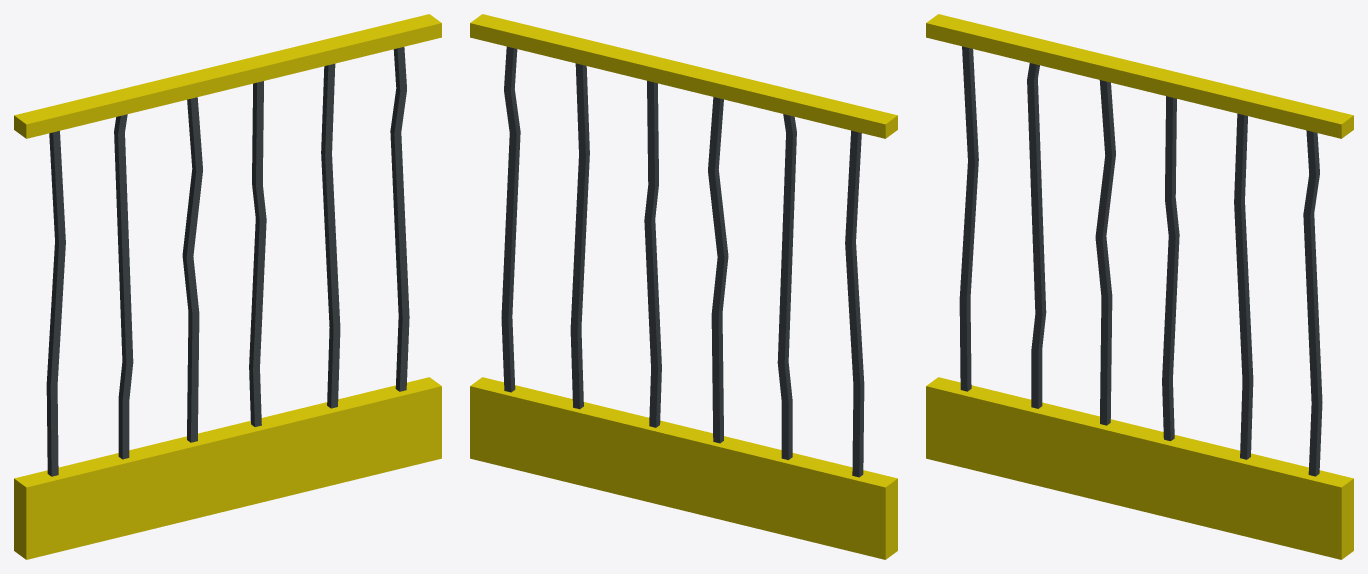
Rendered from BarWall_300x300.fbx.
The picture shows the model from 3 angles, left to right: view 1: azimuth 30°, elevation 25°; view 2: azimuth 150°, elevation 25°; view 3: azimuth 330°, elevation 25°; orthographic projection.
Parts seen in each view (by area): view 1: SeethroughWall_300x300; view 2: SeethroughWall_300x300; view 3: SeethroughWall_300x300.
Part boxes in pixels (left/top/right/bottom): SeethroughWall_300x300: left=14, top=14, right=441, bottom=559; SeethroughWall_300x300: left=470, top=14, right=897, bottom=559; SeethroughWall_300x300: left=926, top=14, right=1353, bottom=559.
Bounding box in the file's own units: 300 × 301 × 15.5.
